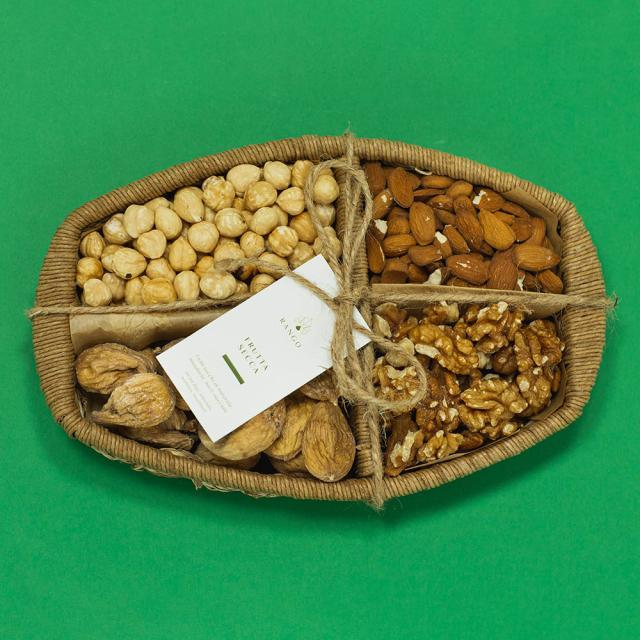Frutta secca: (61, 160, 340, 291), (360, 169, 594, 290), (374, 306, 578, 436)
